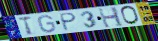3: (80, 10, 98, 29)
G: (37, 14, 57, 33)
H: (97, 6, 125, 29)
O: (120, 5, 141, 25)
P: (60, 12, 78, 32)
T: (18, 15, 34, 36)
